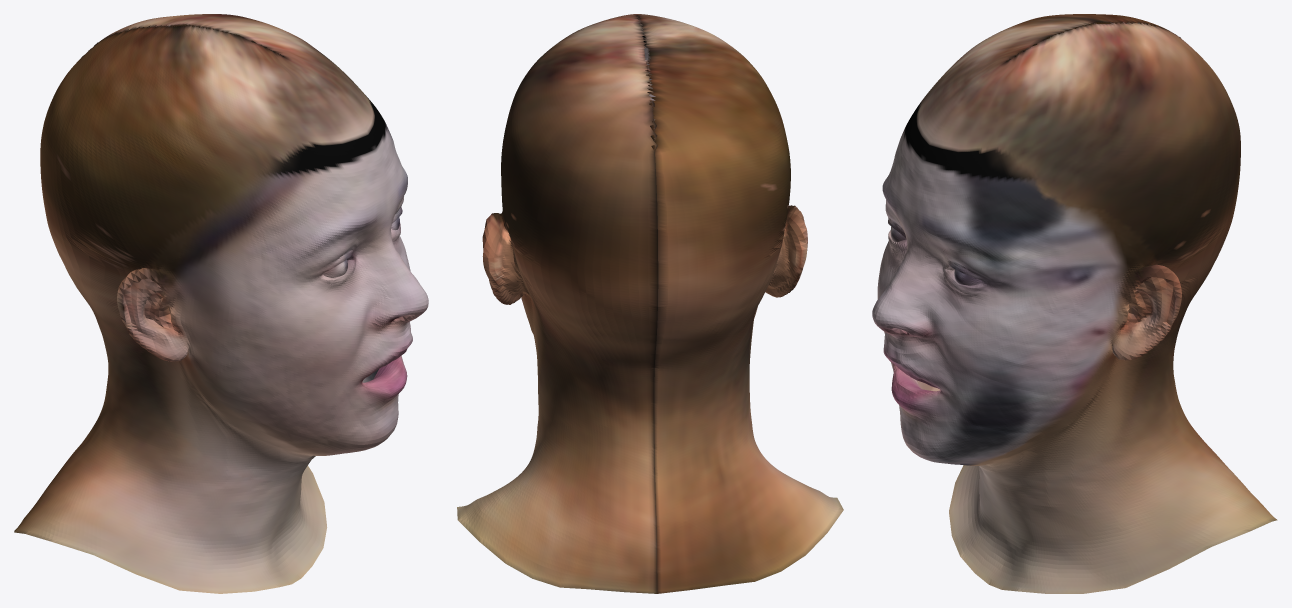
File: cheo1_frame0008_detail.obj
3 renders of one model, left to right at view 1: azimuth 30°, elevation 25°; view 2: azimuth 150°, elevation 25°; view 3: azimuth 270°, elevation 25°, orthographic.
Bounding box in the file's own units: 0.2138 × 0.3203 × 0.2211.
